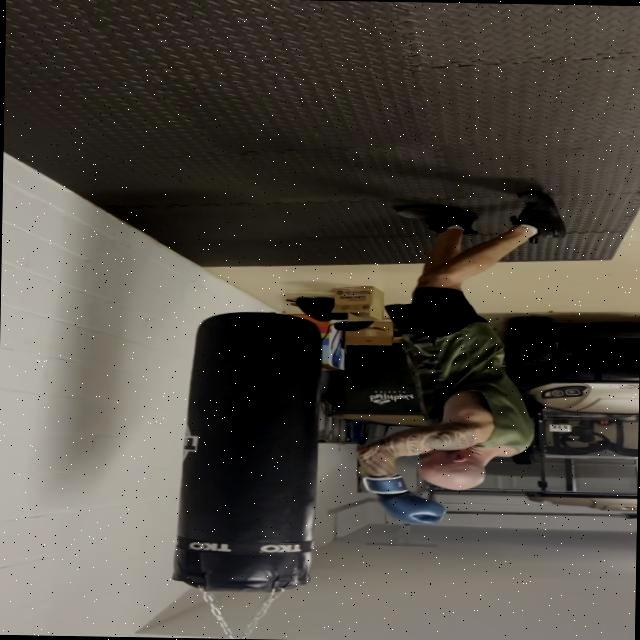punch: (338, 395, 528, 531)
